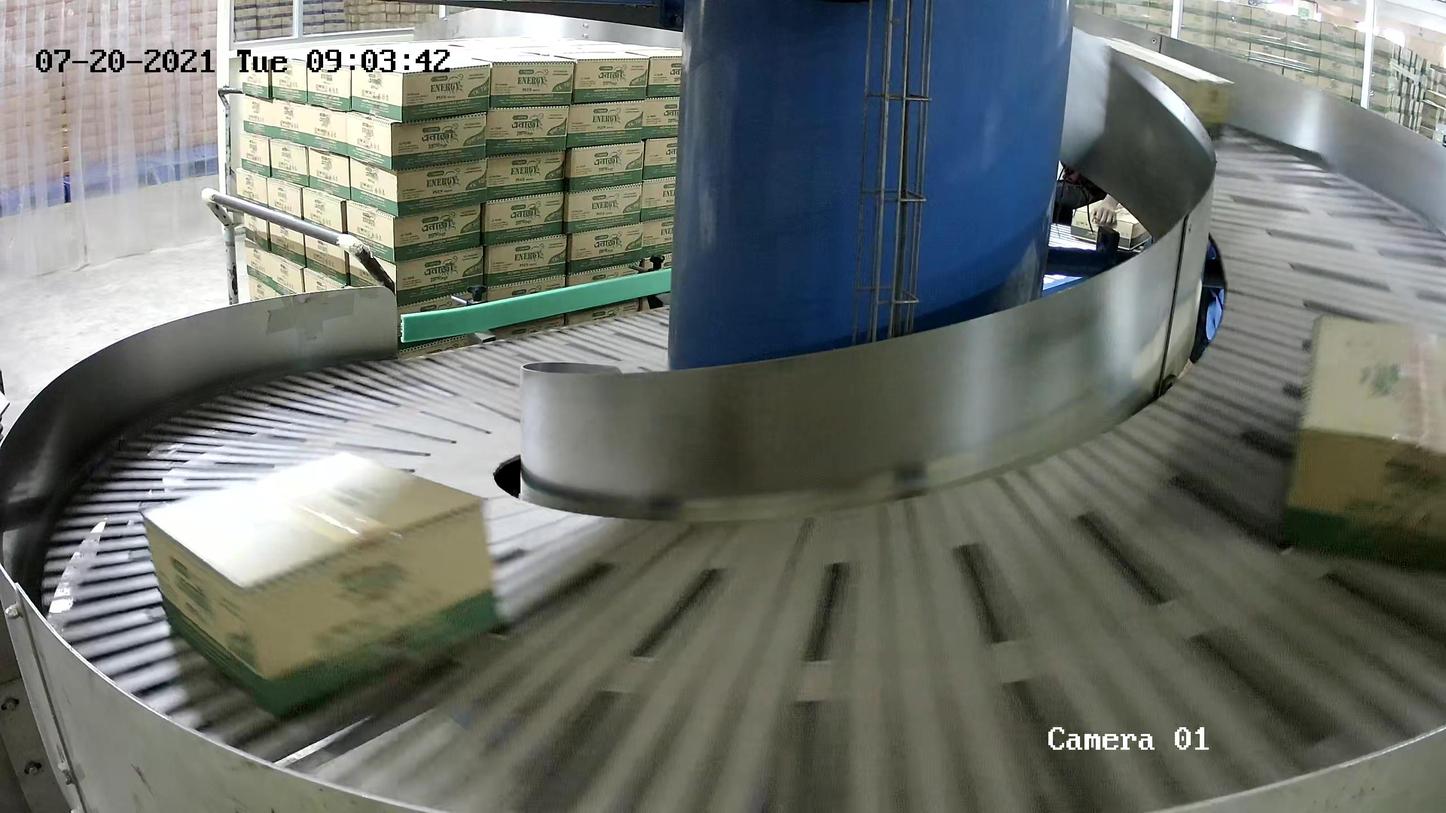Box: (136, 447, 501, 719), (1279, 309, 1446, 576)
